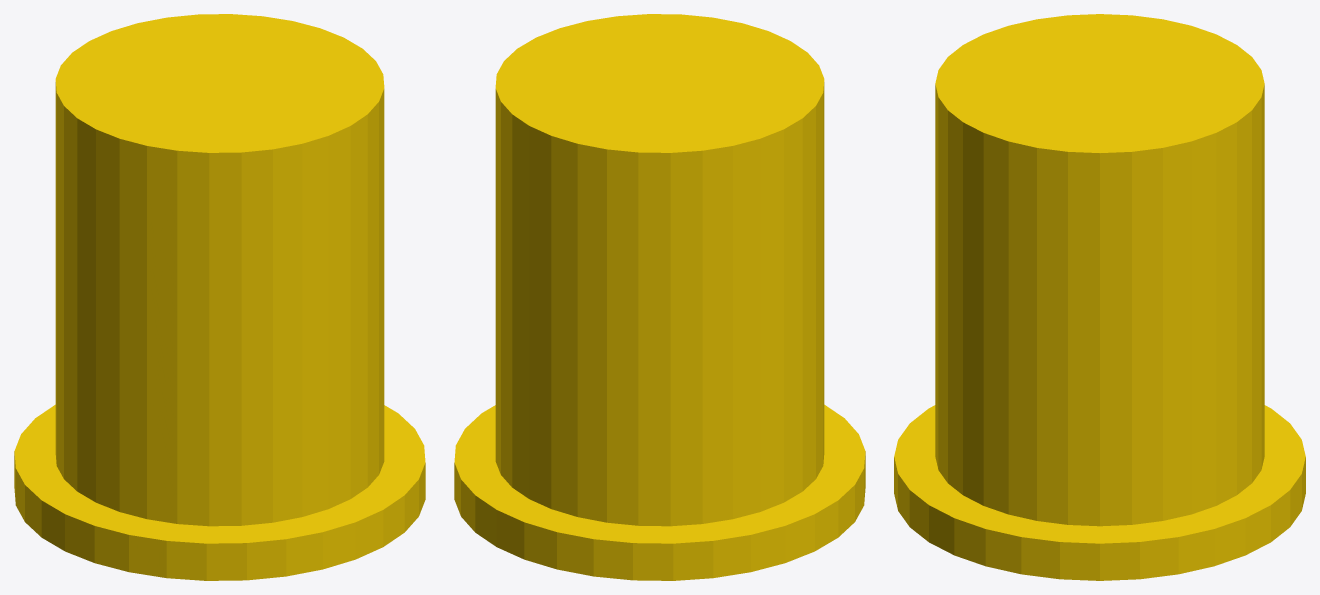
The model's file is hat9.fbx.
3 renders of one model, left to right at view 1: azimuth 30°, elevation 25°; view 2: azimuth 150°, elevation 25°; view 3: azimuth 270°, elevation 25°, orthographic.
Parts seen in each view (by area): view 1: Cylinder.001, Cylinder; view 2: Cylinder.001, Cylinder; view 3: Cylinder.001, Cylinder.
Boxes of the visible parts, x1,y1,x2,y2 form: Cylinder.001: (55,14,384,526); Cylinder: (14,404,425,580); Cylinder.001: (495,14,824,526); Cylinder: (454,404,865,580); Cylinder.001: (935,14,1264,526); Cylinder: (894,405,1305,580).
Size of the model in its own units: 200 by 220 by 200.
